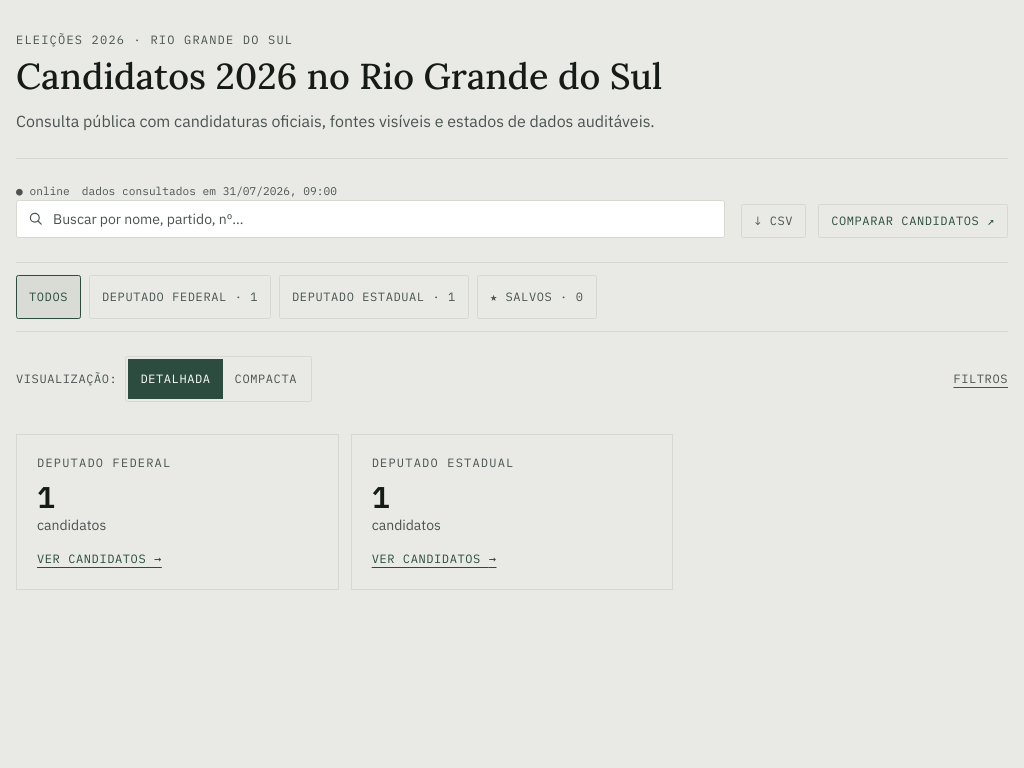
Scenario: HomePage estados honestos H5.2 › busca por acento, partido, número e cargo retorna resultados corretos
Step 1. Type "Jose" into the search field named "buscar candidatos" → (371,219), box x1=16 y1=200 x2=725 y2=238
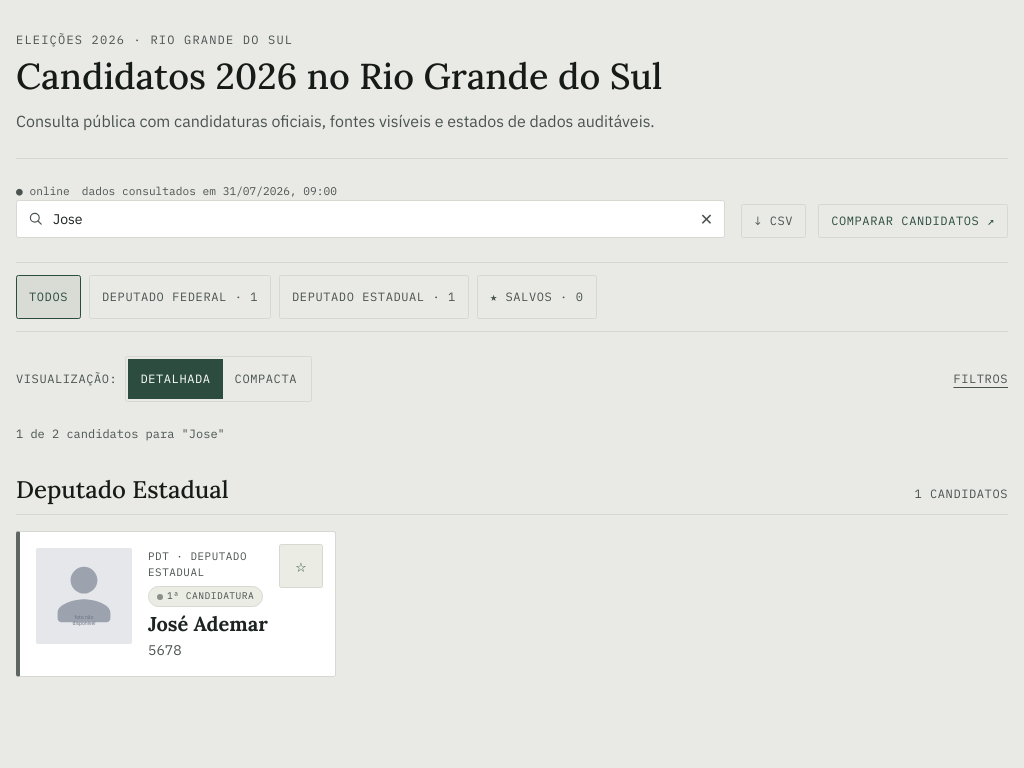
Expected: the text "Candidata Oficial" is not shown
Result: the heading "José Ademar" is shown at x1=148 y1=611 x2=287 y2=636
Step 2. Replace the text in the search field named "buscar candidatos" with "PDT" → (371,219), box x1=16 y1=200 x2=725 y2=238
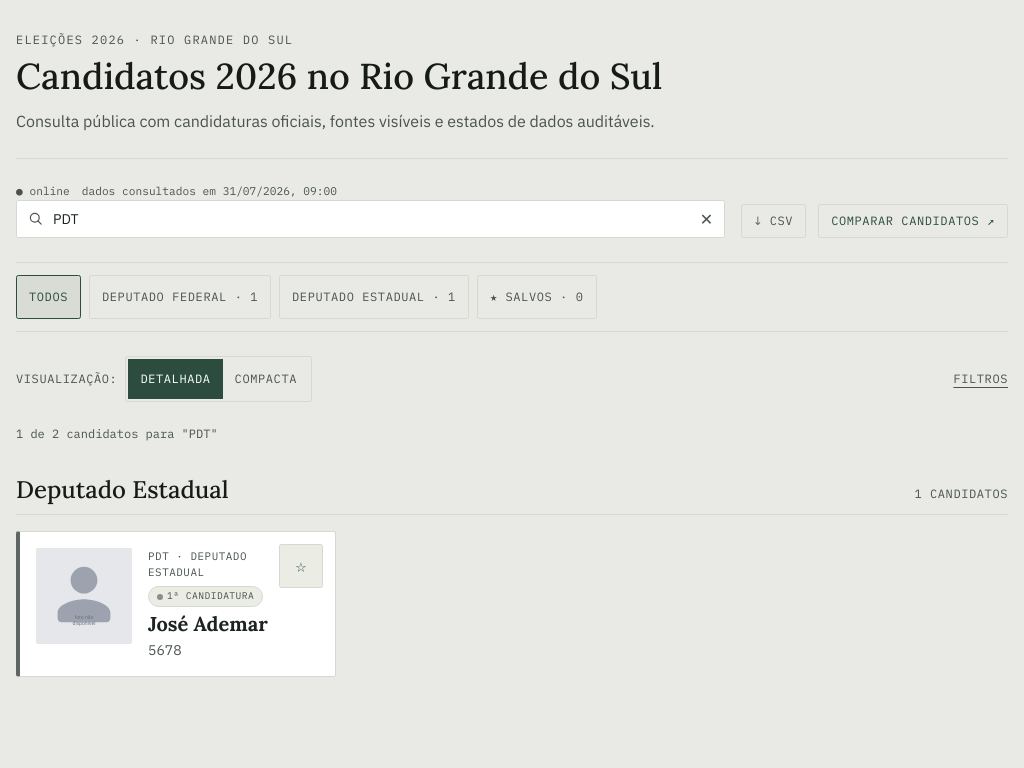
Expected: the text "Candidata Oficial" is not shown
Result: the heading "José Ademar" is shown at x1=148 y1=611 x2=287 y2=636
Step 3. Replace the text in the search field named "buscar candidatos" with "1234" → (371,219), box x1=16 y1=200 x2=725 y2=238
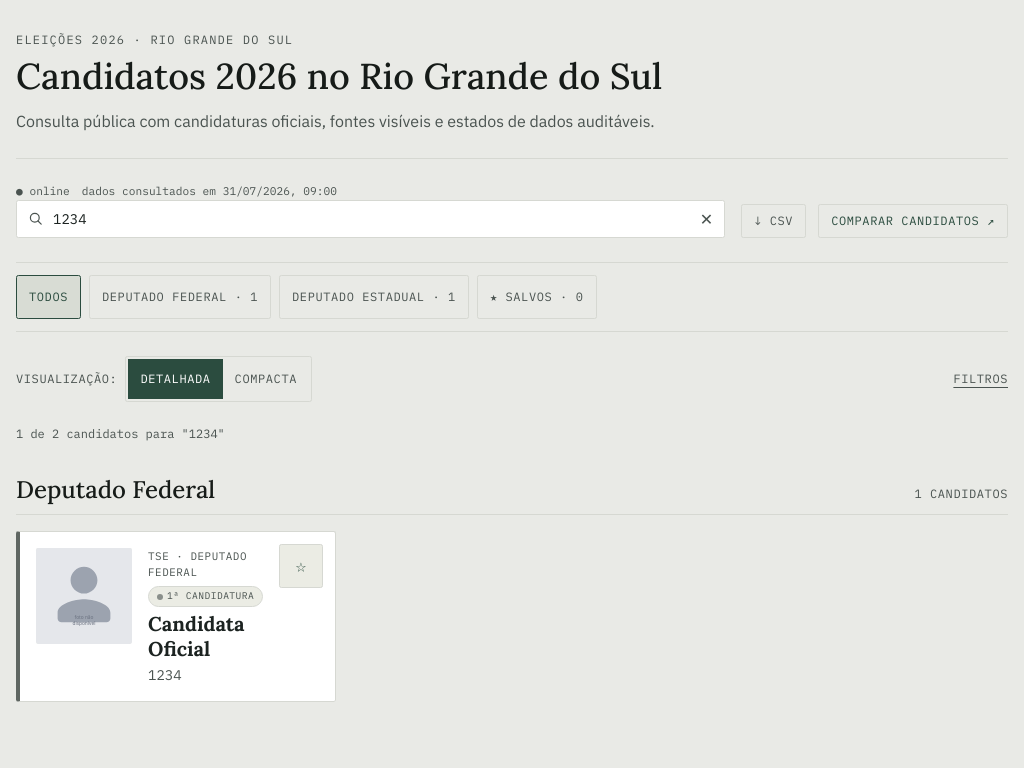
Result: the heading "Candidata Oficial" is shown at x1=148 y1=611 x2=244 y2=661
Result: the link "José Ademar" is gone
Step 4. Replace the text in the search field named "buscar candidatos" with "estadual" → (371,219), box x1=16 y1=200 x2=725 y2=238
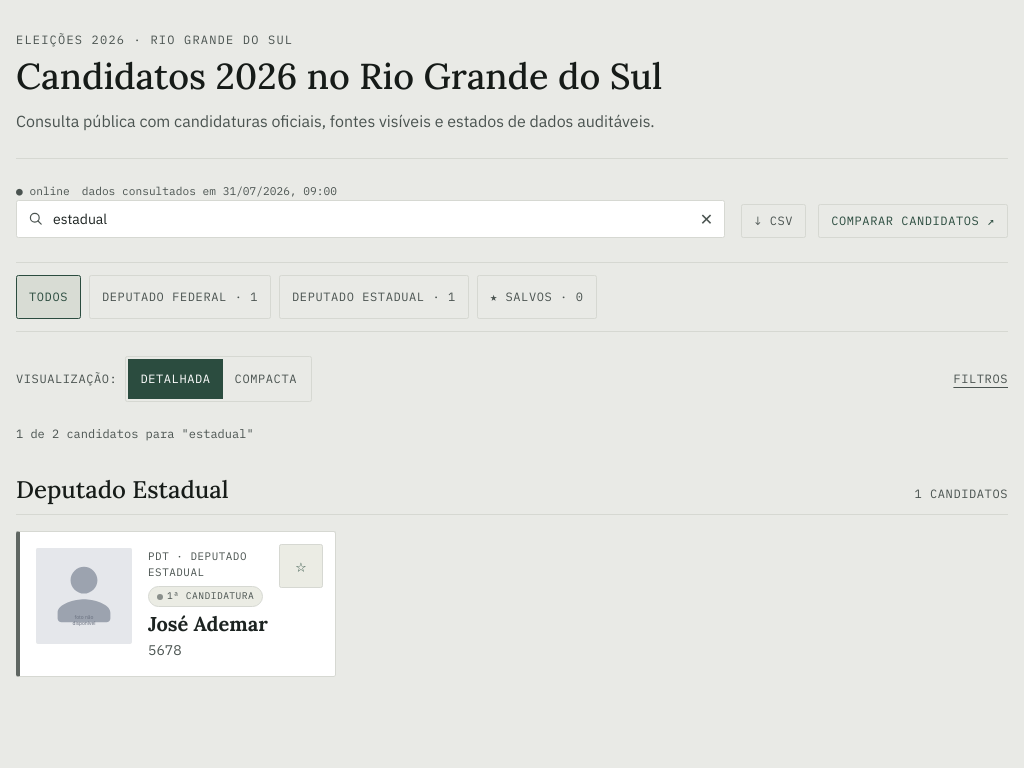
Result: the heading "José Ademar" is shown at x1=148 y1=611 x2=287 y2=636
Result: the link "Candidata Oficial" is gone
